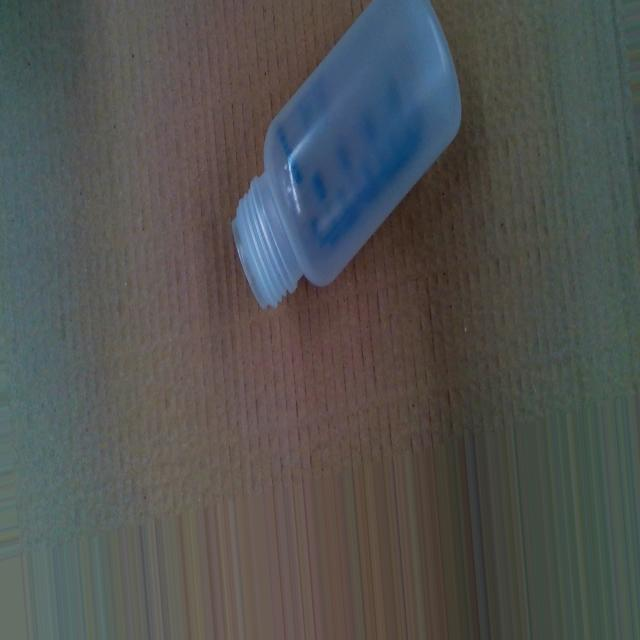bottle: (232, 0, 463, 307)
